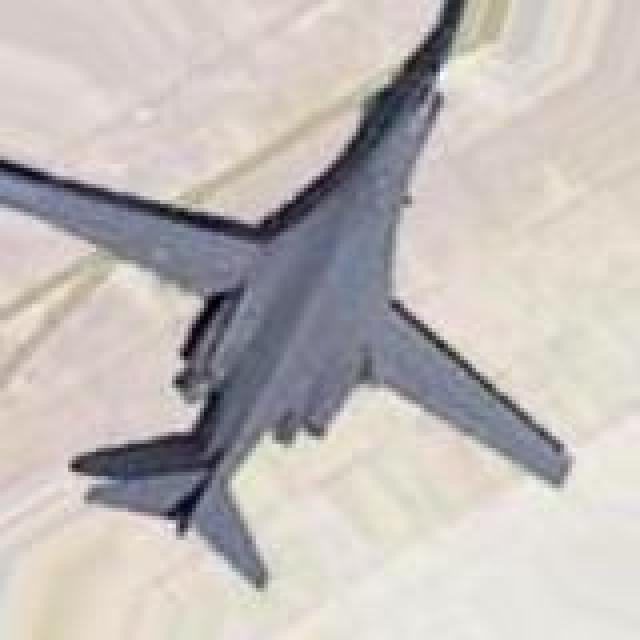B-1_TopDown: (0, 0, 576, 592)
